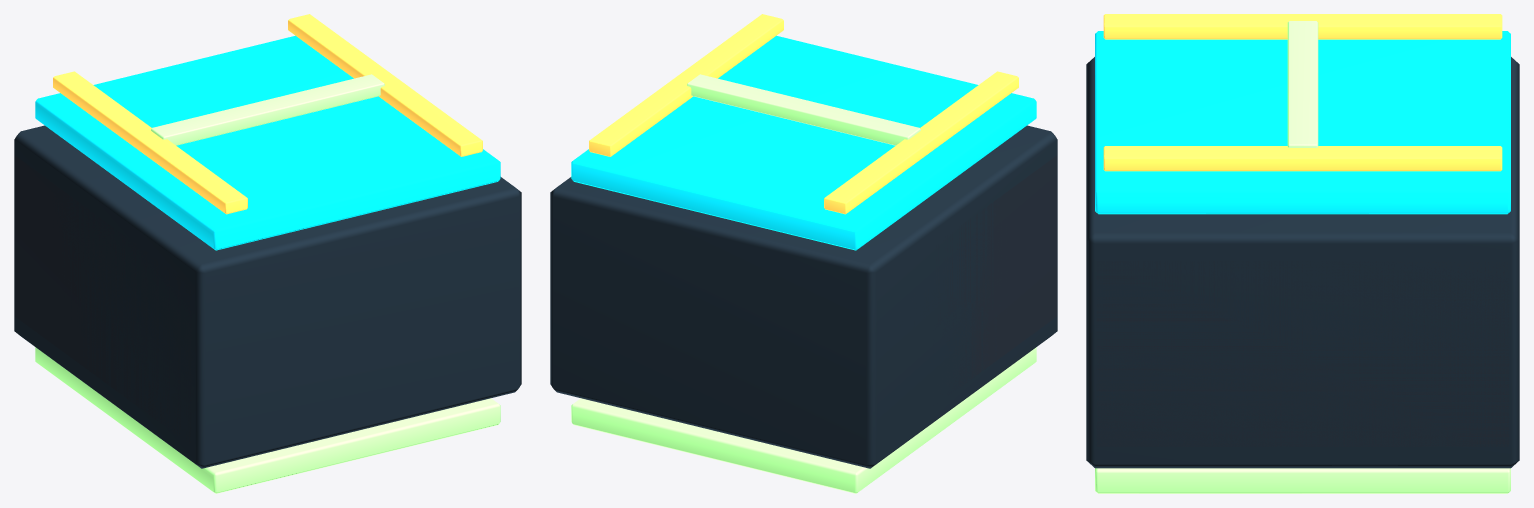
File: gate_beam.glb
The picture shows the model from 3 angles, left to right: view 1: azimuth 30°, elevation 25°; view 2: azimuth 150°, elevation 25°; view 3: azimuth 270°, elevation 25°; orthographic projection. The views are drawn at different scales.
Visible parts, largest first — view 1: GateBeamCore, GateBeamUpperGlow, GateBeamEndCapA, GateBeamLowerGlow, GateBeamMagentaTickA, GateBeamMagentaTickB, GateBeamCenterSpine; view 2: GateBeamCore, GateBeamUpperGlow, GateBeamEndCapA, GateBeamLowerGlow, GateBeamMagentaTickA, GateBeamMagentaTickB, GateBeamCenterSpine; view 3: GateBeamCore, GateBeamUpperGlow, GateBeamEndCapB, GateBeamLowerGlow, GateBeamMagentaTickB, GateBeamMagentaTickA, GateBeamCenterSpine.
Boxes of the visible parts, x1,y1,x2,y2 form: GateBeamCore: [14, 125, 521, 468]; GateBeamUpperGlow: [35, 35, 500, 250]; GateBeamEndCapA: [15, 155, 194, 444]; GateBeamLowerGlow: [35, 347, 500, 493]; GateBeamMagentaTickA: [53, 71, 247, 214]; GateBeamMagentaTickB: [288, 14, 482, 156]; GateBeamCenterSpine: [151, 74, 384, 145]; GateBeamCore: [550, 125, 1057, 468]; GateBeamUpperGlow: [571, 35, 1036, 250]; GateBeamEndCapA: [912, 155, 1056, 394]; GateBeamLowerGlow: [571, 347, 1036, 493]; GateBeamMagentaTickA: [824, 71, 1018, 214]; GateBeamMagentaTickB: [589, 14, 783, 156]; GateBeamCenterSpine: [687, 74, 920, 145]; GateBeamCore: [1086, 57, 1519, 468]; GateBeamUpperGlow: [1095, 31, 1510, 214]; GateBeamEndCapB: [1096, 261, 1509, 446]; GateBeamLowerGlow: [1095, 468, 1510, 493]; GateBeamMagentaTickB: [1103, 146, 1502, 171]; GateBeamMagentaTickA: [1103, 14, 1502, 39]; GateBeamCenterSpine: [1287, 21, 1318, 147].
Bounding box in the file's own units: 0.5 × 0.423 × 0.5.
